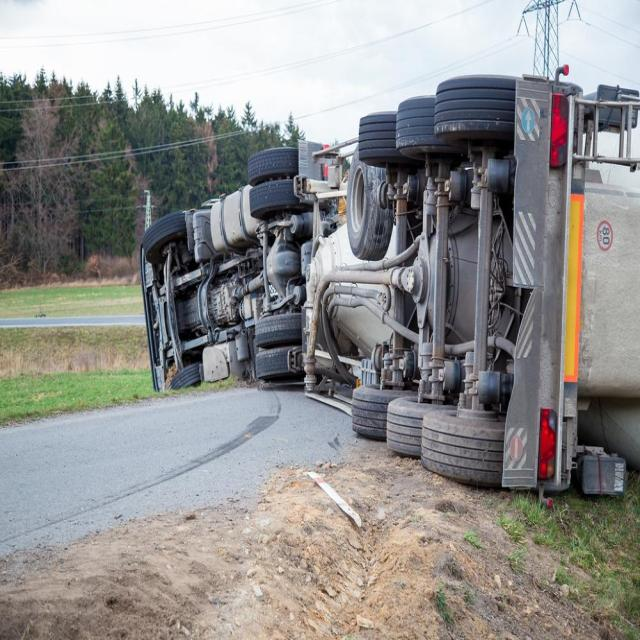Accident: (139, 71, 640, 495)
